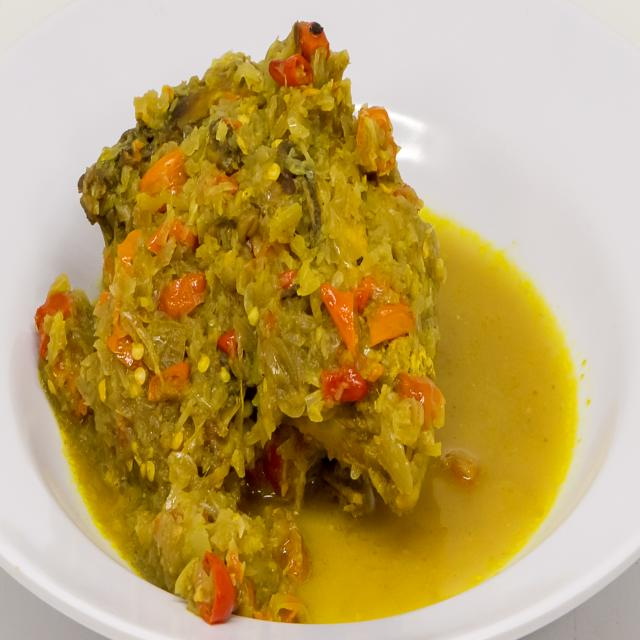Ayam-Betutu: (28, 11, 445, 633)
